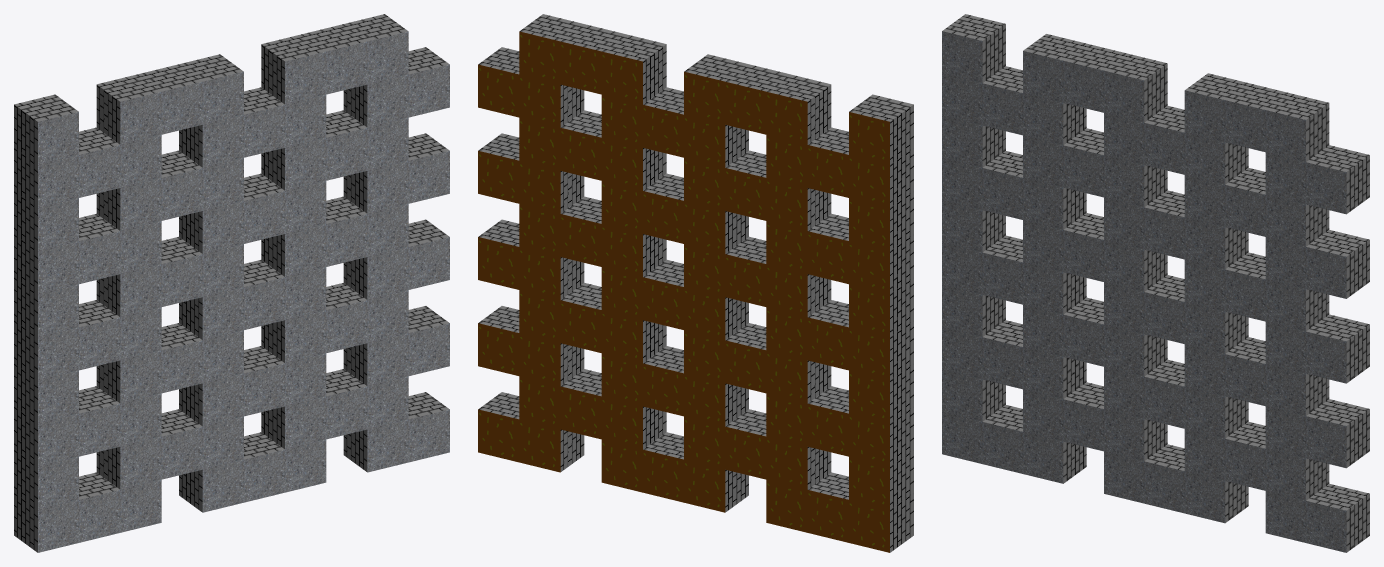
Rendered from xadrez.obj.
3 views of the same model, side by side, from view 1: azimuth 30°, elevation 25°; view 2: azimuth 150°, elevation 25°; view 3: azimuth 330°, elevation 25° (orthographic).
Bounding box in the file's own units: 10 × 10 × 1.
